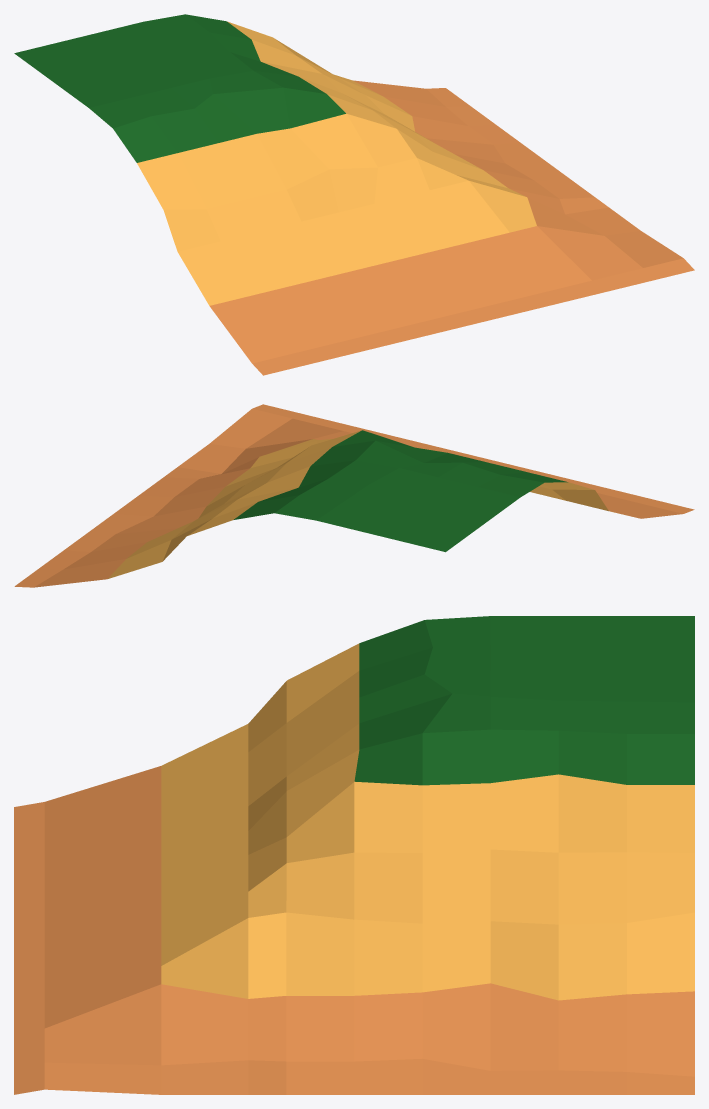
The model's file is Playa_Esquina.fbx.
3 views of the same model, one above another, from view 1: azimuth 30°, elevation 25°; view 2: azimuth 150°, elevation 25°; view 3: azimuth 270°, elevation 25° (orthographic). The views are drawn at different scales.
Parts seen in each view (by area): view 1: Playa_Esquina; view 2: Playa_Esquina; view 3: Playa_Esquina.
Part boxes in pixels (x1,y1,x2,y2): Playa_Esquina: [14, 14, 694, 375]; Playa_Esquina: [14, 404, 694, 587]; Playa_Esquina: [14, 616, 694, 1094].
Bounding box in the file's own units: 2000 × 619 × 2000.
